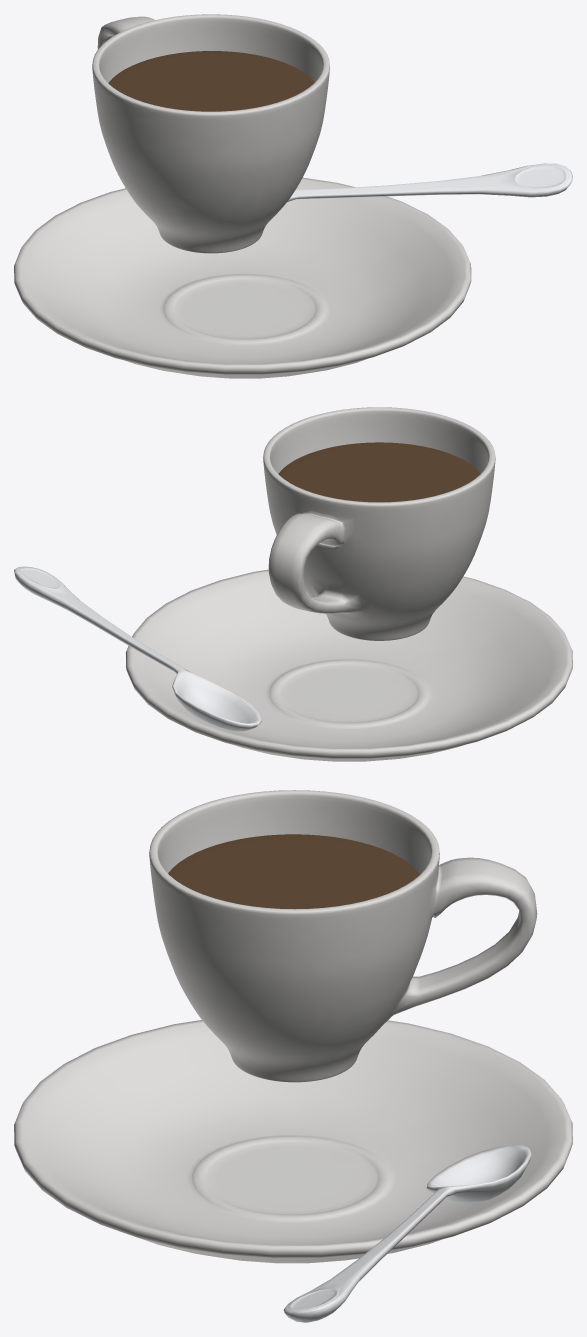
Rendered from torref3d.glb.
3 views of the same model, one above another, from view 1: azimuth 30°, elevation 25°; view 2: azimuth 150°, elevation 25°; view 3: azimuth 270°, elevation 25° (orthographic). The views are drawn at different scales.
Parts seen in each view (by area): view 1: Plate, Cup, Coffee, Spoon; view 2: Plate, Cup, Coffee, Spoon; view 3: Plate, Cup, Coffee, Spoon.
Boxes of the visible parts, <box> form: Plate: <box>14,177,471,378</box>; Cup: <box>92,14,329,253</box>; Coffee: <box>108,51,314,111</box>; Spoon: <box>287,163,572,201</box>; Plate: <box>126,569,572,761</box>; Cup: <box>263,407,495,640</box>; Coffee: <box>278,442,480,502</box>; Spoon: <box>14,566,261,731</box>; Plate: <box>14,1020,572,1263</box>; Cup: <box>149,790,537,1082</box>; Coffee: <box>168,834,419,909</box>; Spoon: <box>283,1145,531,1322</box>.
Size of the model in its own units: 1.17 by 0.5758 by 0.8684.
